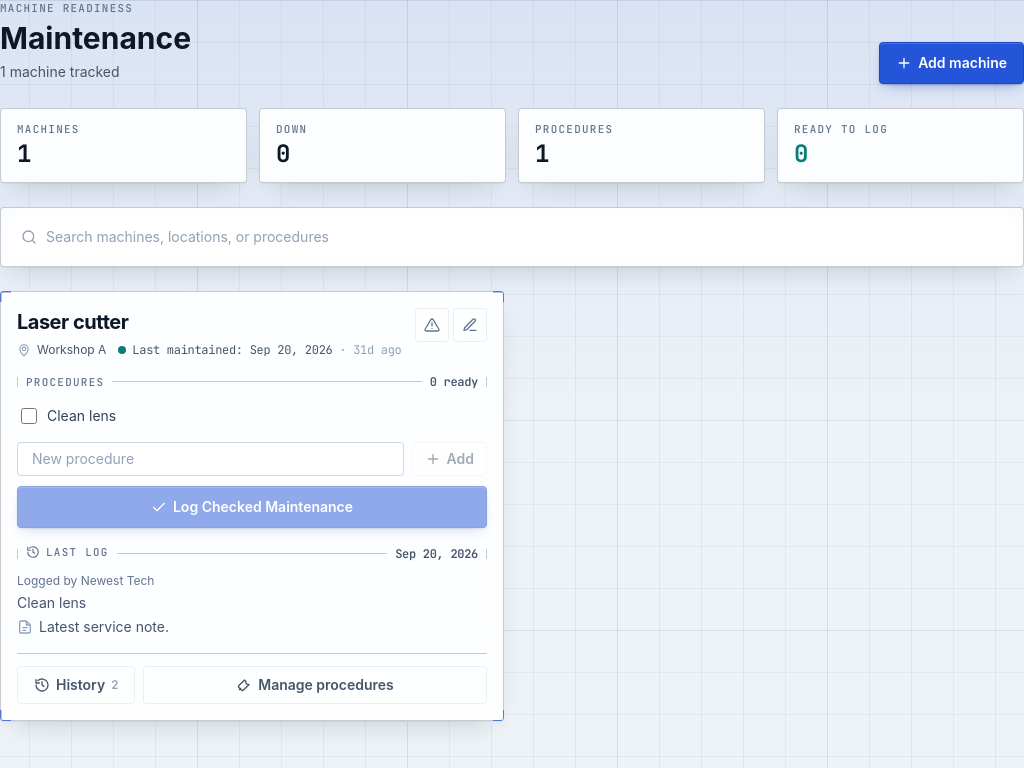
Scenario: compact machine card › shows only the latest log, with the rest in the history panel
The image size is (1024, 768).
Expected: the text "Latest service note." is shown, [39,617,169,637]
Expected: the text "Older service note." is not shown
Step 1. Click the button "History 2" → coordinates (76, 685), box [17,666,135,704]
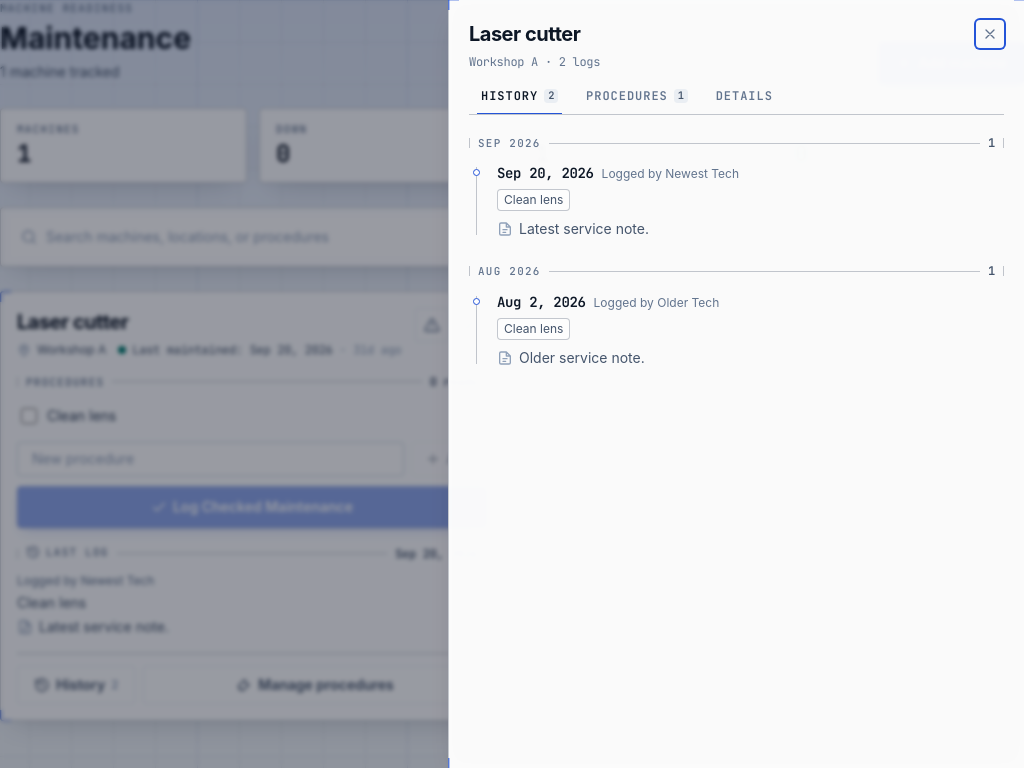
Now the text "Older service note." is shown, box [519,348,645,368]
Now the text "Latest service note." is shown, box [519,219,649,239]
